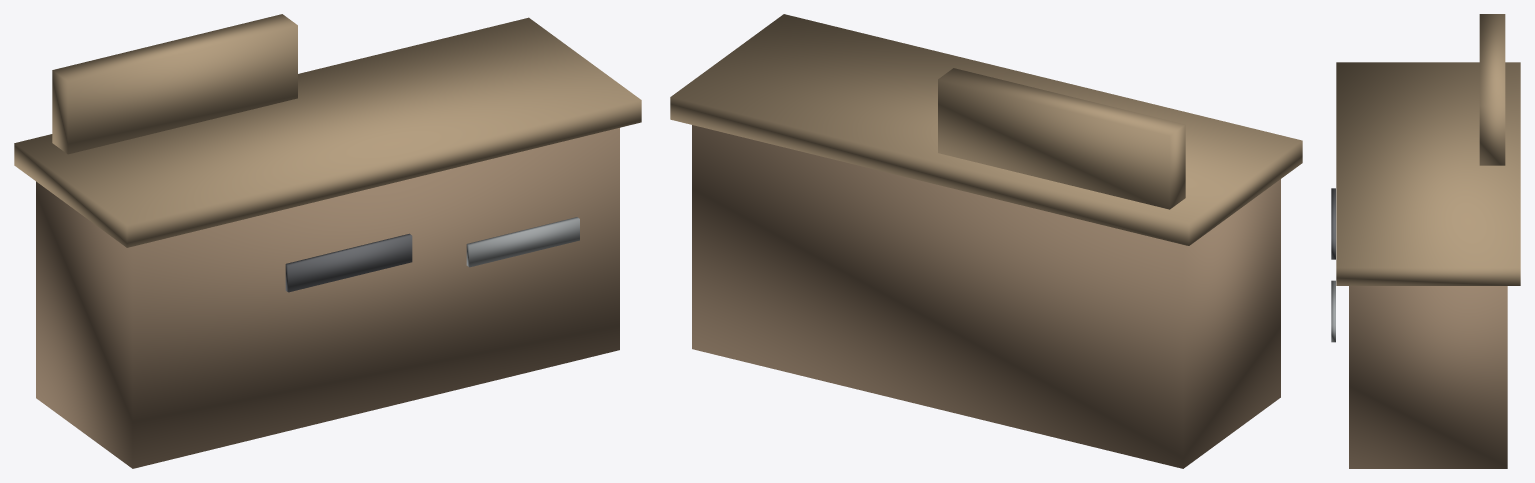
Rendered from reception_desk__weathered.glb.
3 renders of one model, left to right at view 1: azimuth 30°, elevation 25°; view 2: azimuth 150°, elevation 25°; view 3: azimuth 270°, elevation 25°, orthographic. The views are drawn at different scales.
Parts seen in each view (by area): view 1: world; view 2: world; view 3: world.
Part boxes in pixels (left/top/right/bottom): world: left=14, top=14, right=641, bottom=468; world: left=670, top=14, right=1302, bottom=468; world: left=1331, top=14, right=1520, bottom=468.
Size of the model in its own units: 1.9 by 1.15 by 0.7391.
